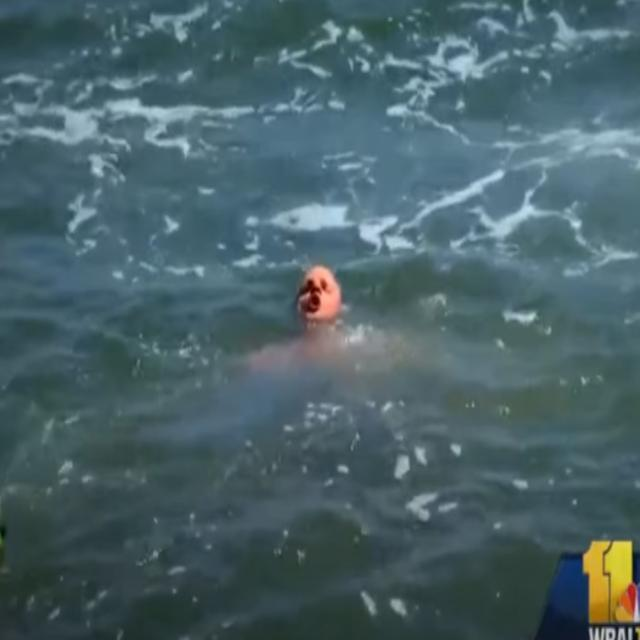Out of Water: (272, 246, 359, 348)
